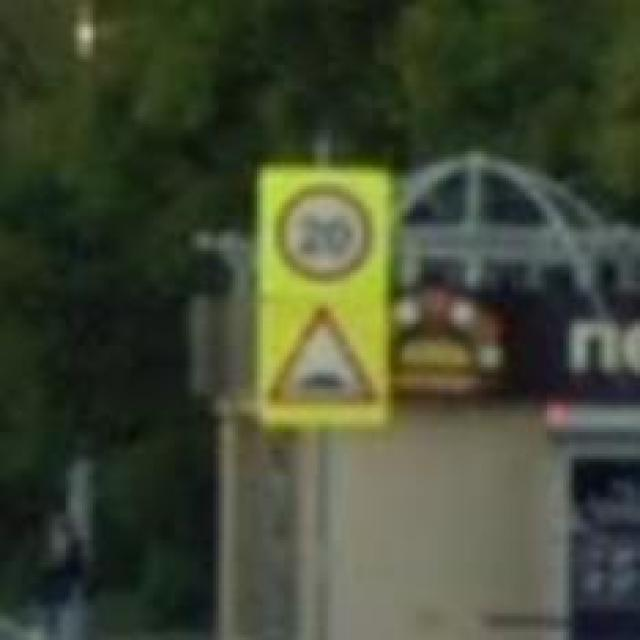forb_speed_over_20: (274, 181, 380, 286)
